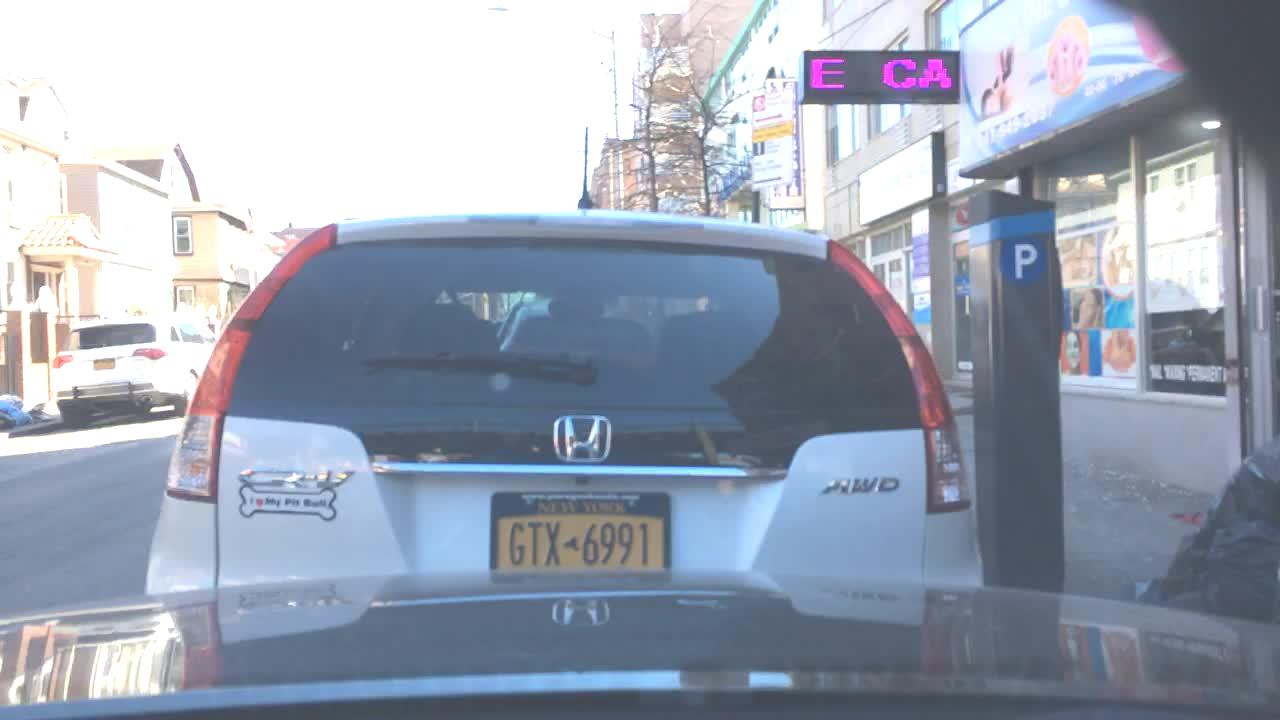Honda: (533, 408, 631, 484)
